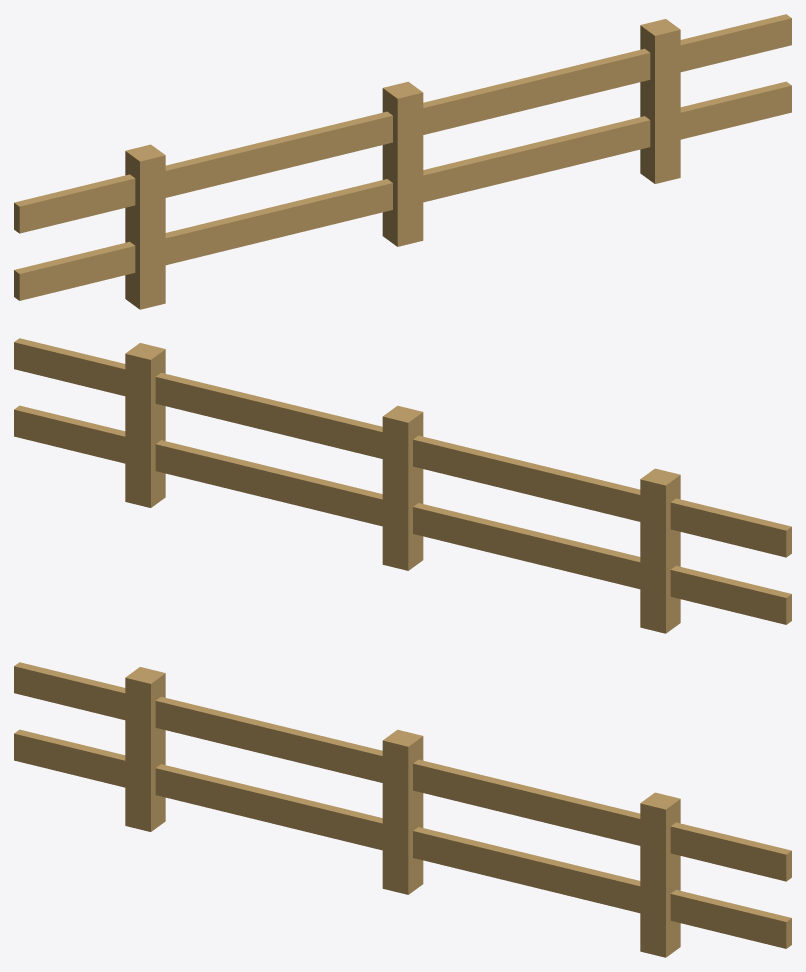
File: fence-mid-piece-x3_.glb
The picture shows the model from 3 angles, top to bottom: view 1: azimuth 30°, elevation 25°; view 2: azimuth 150°, elevation 25°; view 3: azimuth 330°, elevation 25°; orthographic projection.
Parts seen in each view (by area): view 1: fence-mid-piece-x3; view 2: fence-mid-piece-x3; view 3: fence-mid-piece-x3.
Boxes of the visible parts, box(x1,y1,x2,y2) form: fence-mid-piece-x3: box(14, 14, 791, 309); fence-mid-piece-x3: box(14, 338, 791, 633); fence-mid-piece-x3: box(14, 662, 791, 957).
Size of the model in its own units: 6 by 1.1 by 0.2.
